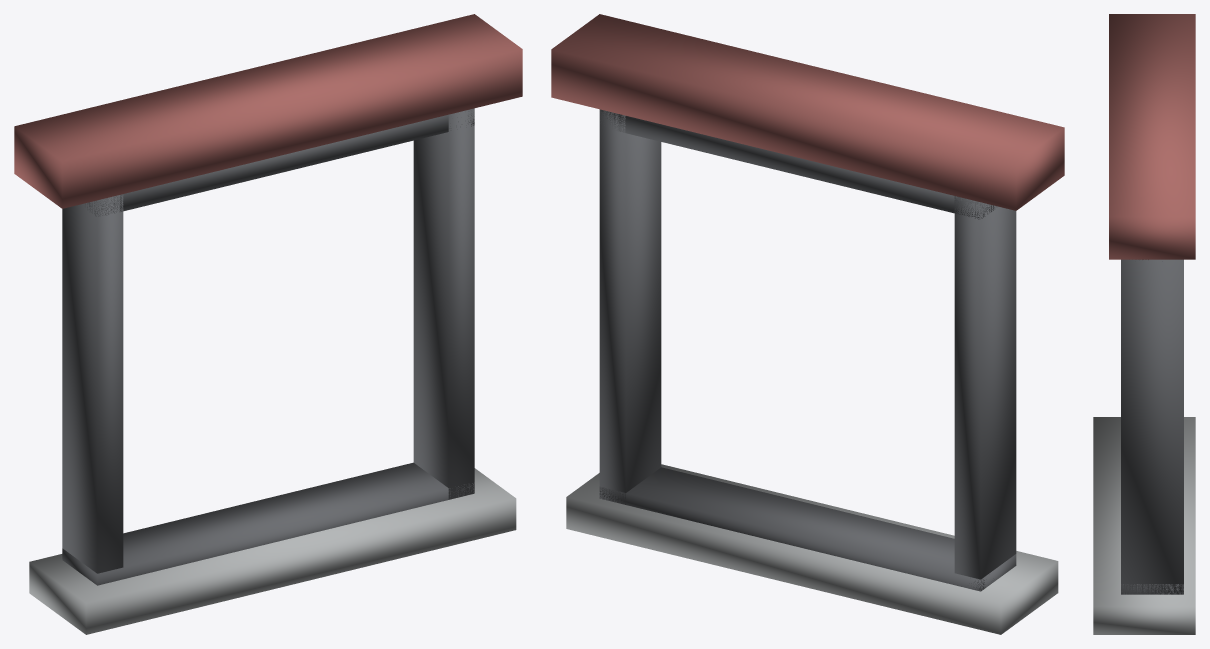
The model's file is egress_window_brick_w86_h90_s88_d16.glb.
3 views of the same model, side by side, from view 1: azimuth 30°, elevation 25°; view 2: azimuth 150°, elevation 25°; view 3: azimuth 270°, elevation 25° (orthographic). The views are drawn at different scales.
Visible parts, largest first — view 1: world; view 2: world; view 3: world.
Boxes of the visible parts, x1,y1,x2,y2 form: world: [14, 14, 522, 634]; world: [551, 14, 1064, 634]; world: [1093, 14, 1195, 634].
Size of the model in its own units: 1.22 by 1.19 by 0.26.
